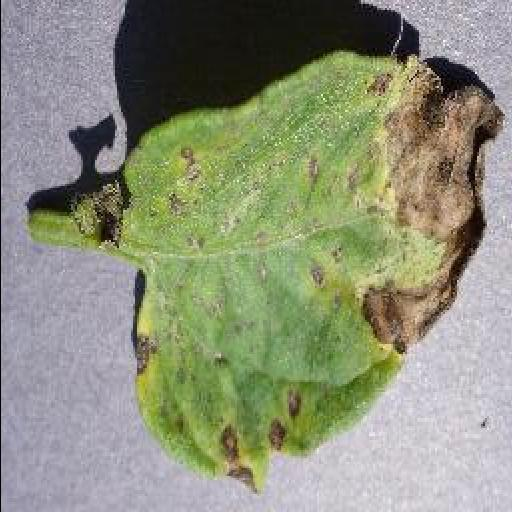disease_tomato: (118, 56, 510, 498)
